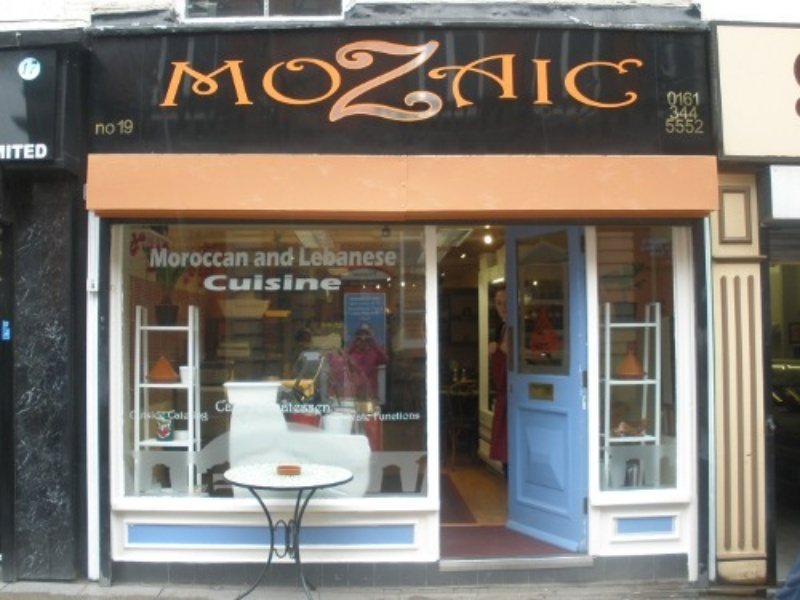text: (161, 39, 176, 122), (177, 39, 192, 122), (193, 39, 208, 122), (209, 39, 224, 122), (225, 39, 240, 122), (241, 39, 256, 122), (257, 39, 272, 122), (273, 39, 288, 122), (289, 39, 304, 122), (305, 39, 320, 122), (321, 39, 336, 122), (337, 39, 352, 122), (353, 39, 368, 122), (369, 39, 384, 122), (385, 39, 400, 122), (401, 39, 416, 122), (417, 39, 432, 122), (433, 39, 448, 122), (449, 39, 464, 122), (465, 39, 480, 122), (481, 39, 496, 122), (497, 39, 512, 122), (513, 39, 528, 122), (529, 39, 544, 122), (545, 39, 560, 122), (561, 39, 576, 122), (577, 39, 592, 122), (593, 39, 608, 122), (609, 39, 624, 122), (625, 39, 640, 122), (161, 245, 176, 271), (177, 245, 192, 271), (193, 245, 208, 271), (209, 245, 224, 271), (225, 245, 240, 271), (385, 245, 401, 269), (257, 244, 272, 269), (273, 244, 288, 269), (305, 245, 320, 269), (321, 245, 336, 269), (337, 245, 352, 269), (353, 245, 368, 269), (369, 245, 384, 269), (209, 273, 224, 293), (225, 273, 240, 293), (241, 273, 256, 293), (257, 273, 272, 293), (273, 273, 288, 293), (289, 273, 304, 293), (305, 273, 320, 293), (321, 273, 336, 293), (149, 245, 160, 271), (241, 245, 252, 271), (673, 89, 688, 108), (225, 399, 240, 418), (241, 399, 256, 418), (257, 399, 272, 418), (273, 399, 288, 418), (289, 399, 304, 418), (305, 399, 320, 418), (97, 119, 112, 137), (113, 119, 128, 137), (17, 143, 32, 161), (33, 143, 48, 161), (129, 407, 144, 425), (145, 407, 160, 425), (161, 407, 176, 425), (177, 407, 192, 425), (193, 407, 208, 425), (157, 39, 160, 122), (641, 39, 644, 122), (673, 119, 688, 135), (689, 119, 704, 135), (689, 89, 701, 108), (673, 105, 688, 119), (213, 399, 224, 418), (321, 399, 332, 418), (289, 244, 297, 269), (385, 410, 400, 423), (401, 410, 416, 423), (297, 245, 304, 269), (7, 143, 16, 161), (372, 410, 384, 423), (689, 105, 700, 119), (663, 119, 672, 135), (337, 273, 343, 293), (666, 89, 672, 108), (129, 119, 135, 137), (204, 273, 208, 293), (417, 410, 423, 423), (253, 244, 256, 269), (668, 105, 672, 119), (93, 119, 96, 137), (49, 143, 50, 161), (209, 407, 210, 425), (705, 119, 706, 135)
